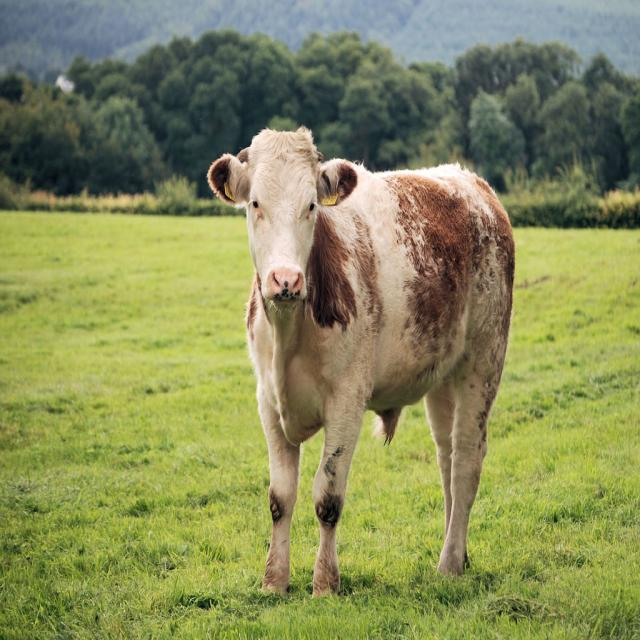Cattle: (205, 123, 516, 600)
